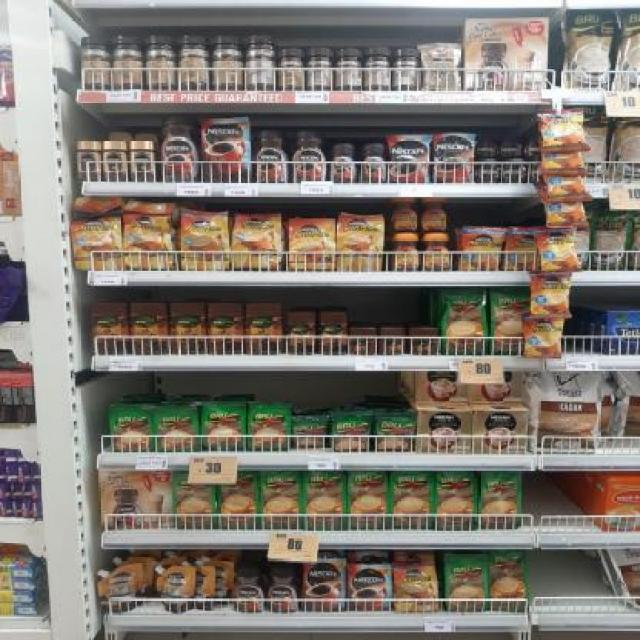Coffee: (202, 120, 250, 183), (156, 117, 200, 184), (181, 214, 228, 270), (233, 213, 279, 269), (73, 218, 121, 270), (123, 215, 171, 267), (337, 217, 383, 271), (290, 219, 334, 270), (393, 563, 437, 612), (305, 559, 345, 610), (291, 131, 329, 183), (252, 131, 290, 183), (349, 564, 391, 610), (434, 134, 474, 182), (389, 135, 428, 183), (460, 228, 502, 270), (530, 273, 568, 314), (231, 570, 267, 613), (540, 229, 578, 269), (267, 568, 299, 612), (505, 229, 537, 270), (126, 140, 156, 182), (525, 319, 559, 356), (330, 143, 358, 184), (391, 233, 421, 271), (101, 140, 128, 182), (422, 234, 453, 270), (360, 144, 388, 183), (76, 140, 102, 181), (390, 198, 419, 231), (546, 117, 580, 145), (422, 199, 450, 231), (501, 158, 527, 180), (476, 160, 498, 183), (500, 136, 522, 157), (477, 137, 498, 157)
